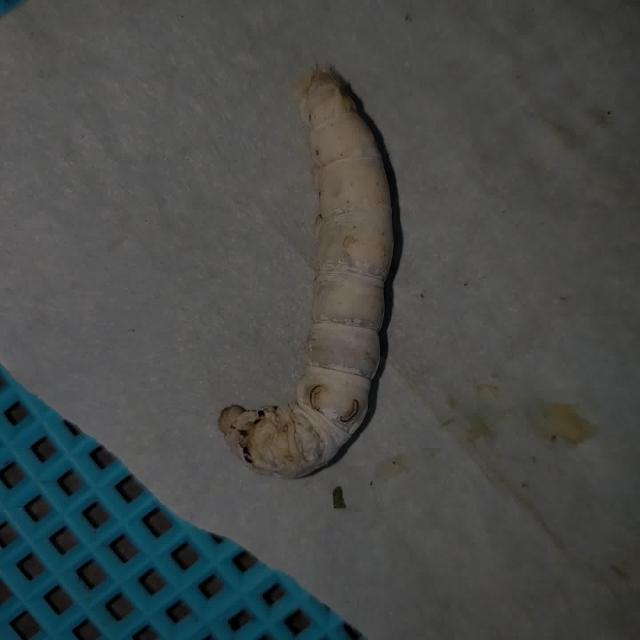Grasserie: (209, 27, 431, 512)
